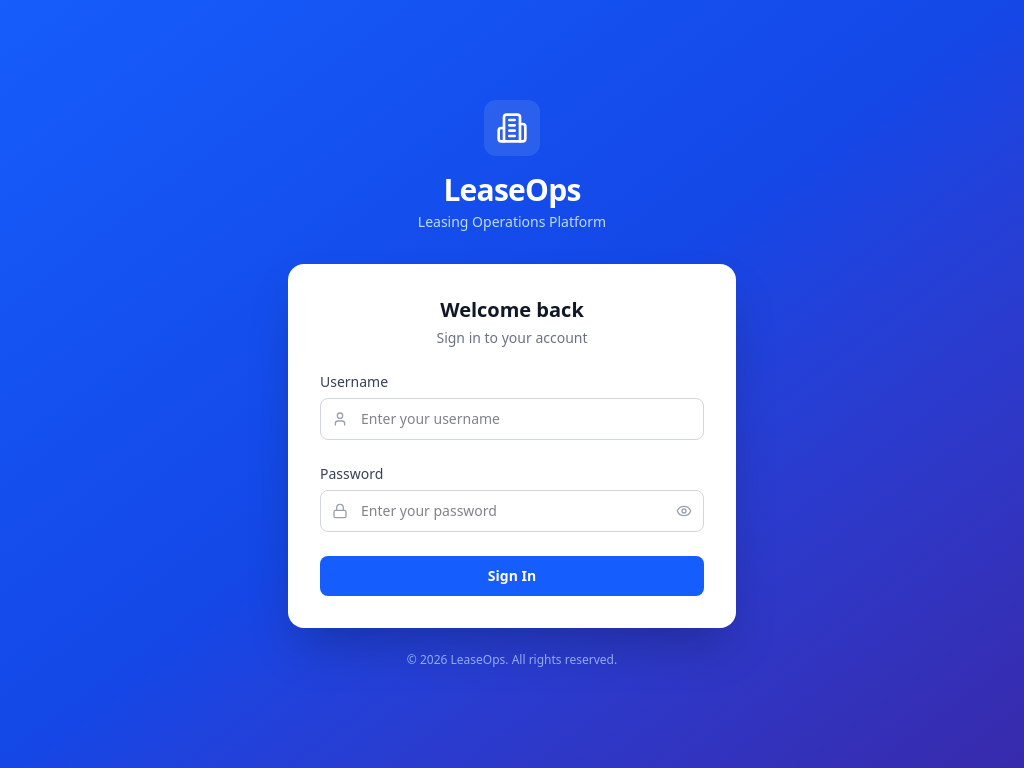
views/auth/LoginView.vue › surfaces the server error message on failure
The image size is (1024, 768).
Type "admin" into the field with id "username" at (512, 419), box [320, 398, 704, 440]
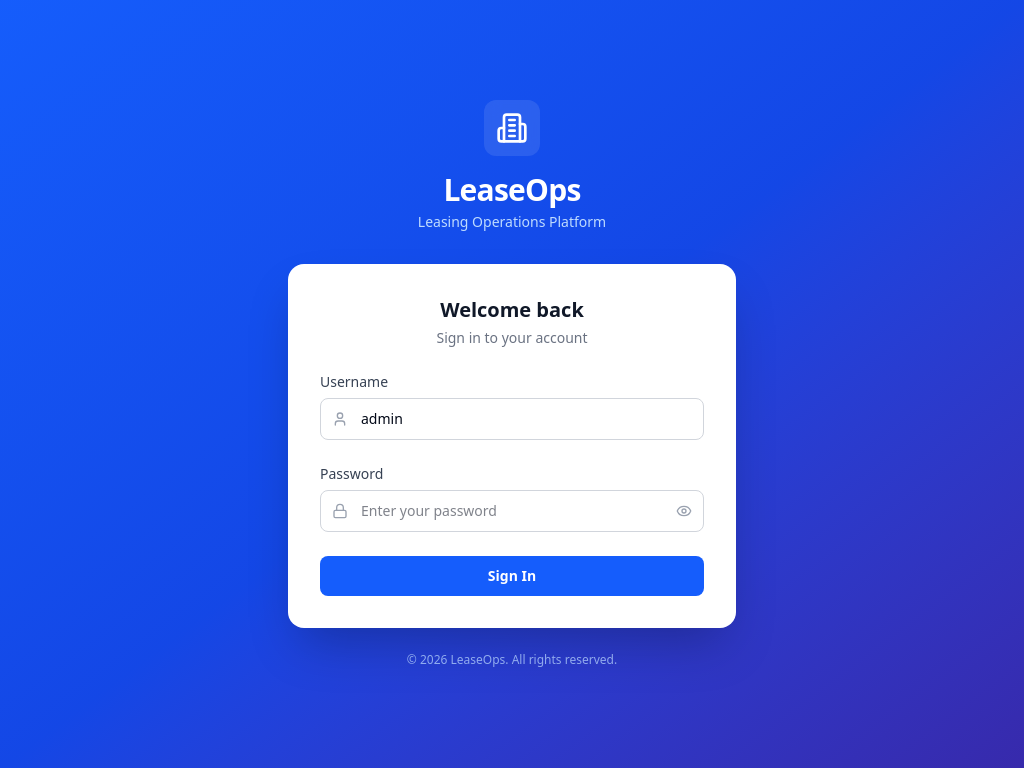
Type "wrong" into the password field labelled "Password" at (512, 511), box [320, 490, 704, 532]
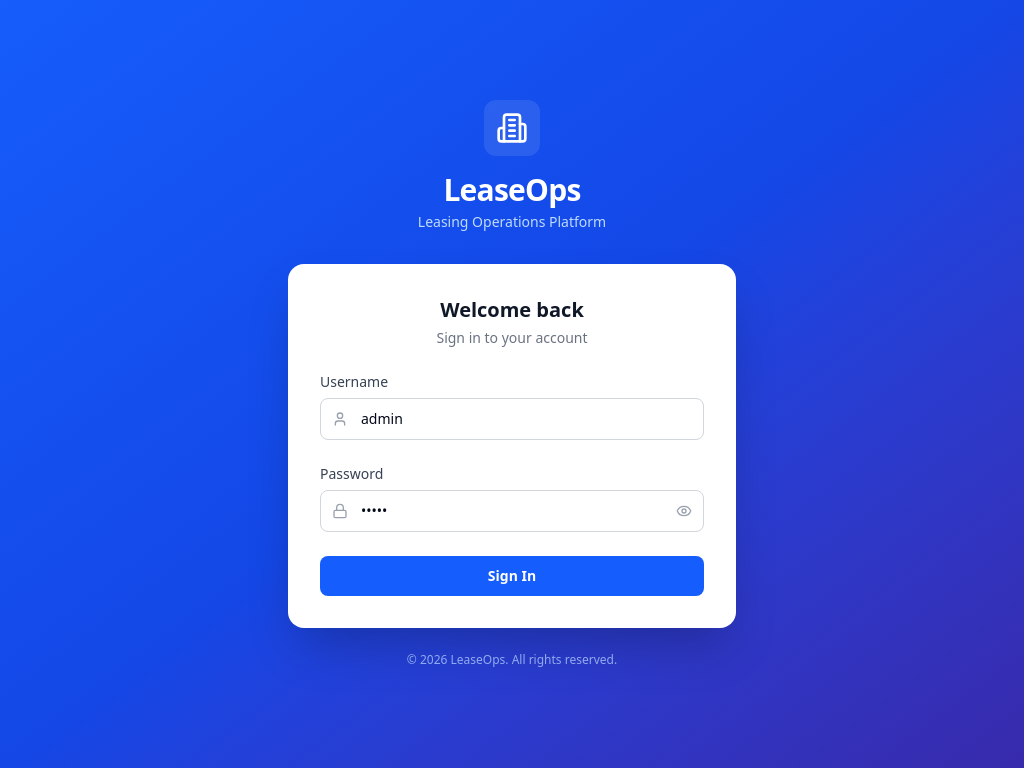
Submit the form, box [288, 264, 736, 628]
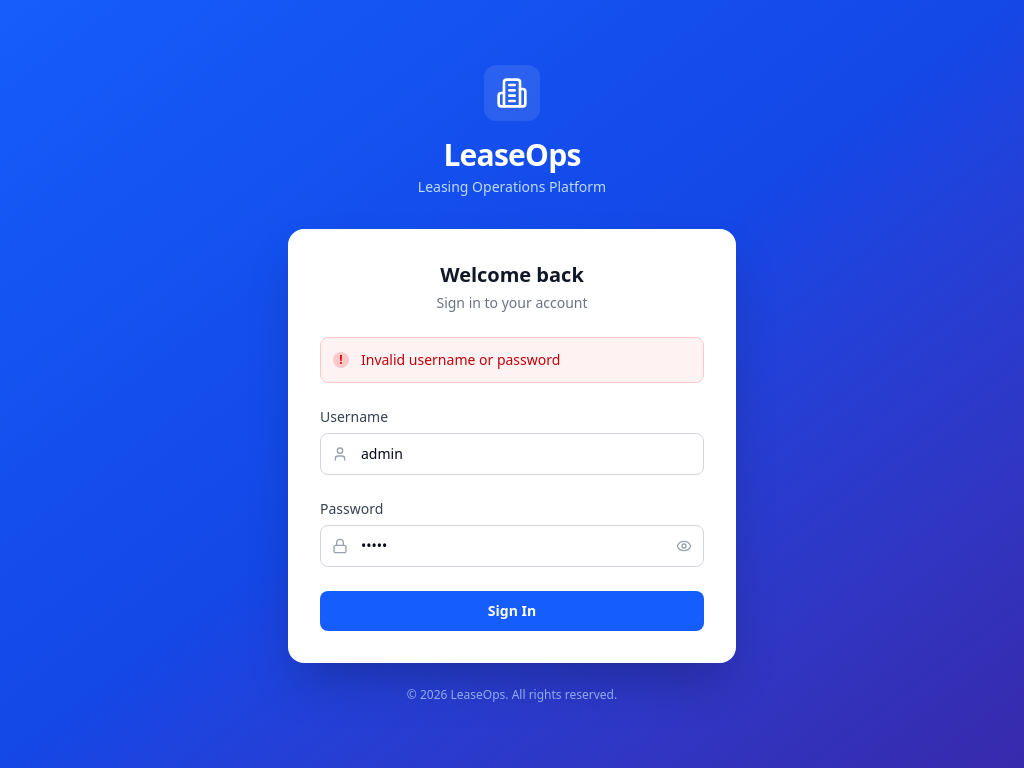
Check: the text "Invalid username or password" is shown, box [361, 350, 560, 370]
